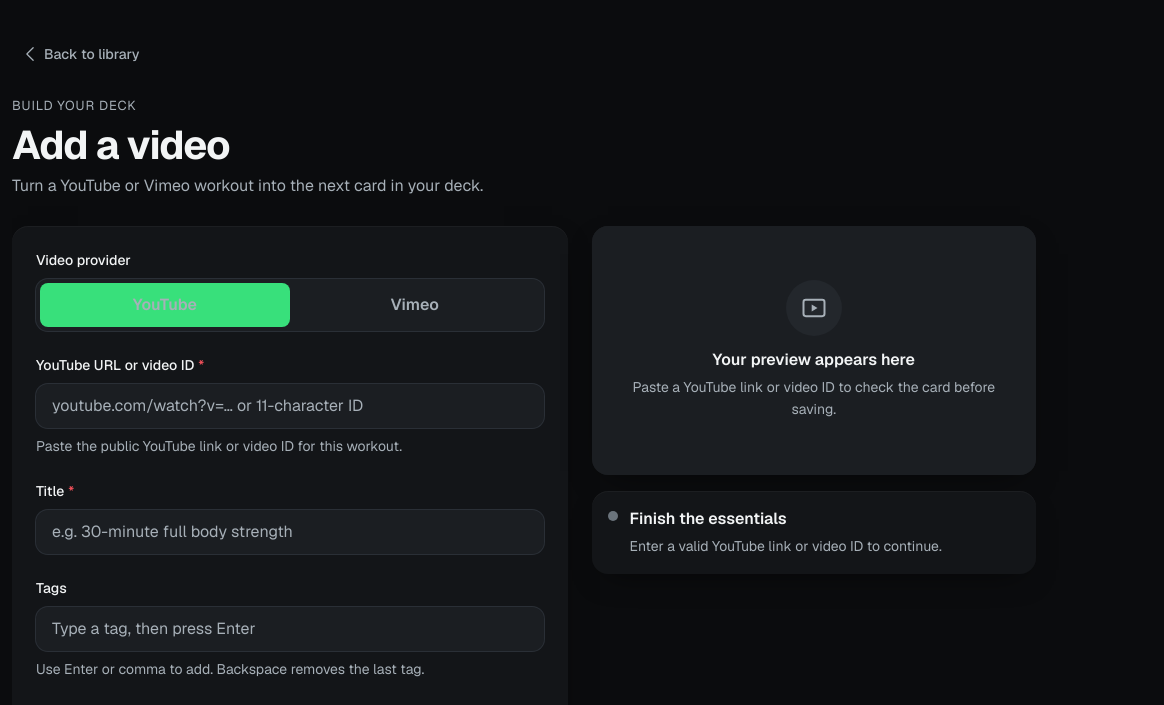
Test: VideoForm › clears an auto-filled title when replacement metadata falls back
The width and height of the screenshot is (1164, 705).
Type "https://youtube.com/watch?v=abc123def45" into the field labelled "YouTube URL or video ID*" at (290, 406), box [36, 384, 544, 428]
Wait 500 ms
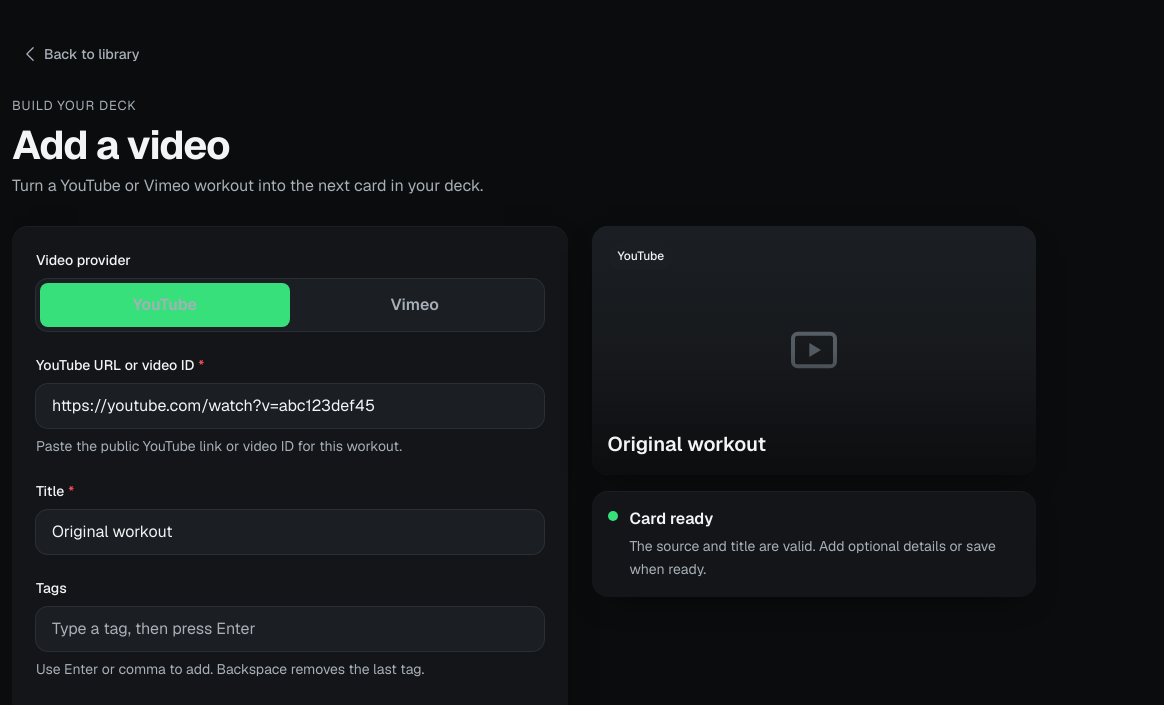
Expected: the field labelled "Title*" holds "Original workout", [36, 510, 544, 554]
Replace the text in the field labelled "YouTube URL or video ID*" with "https://youtube.com/watch?v=zyx987wvu65" at (290, 406), box [36, 384, 544, 428]
Wait 500 ms
(page scrolled)
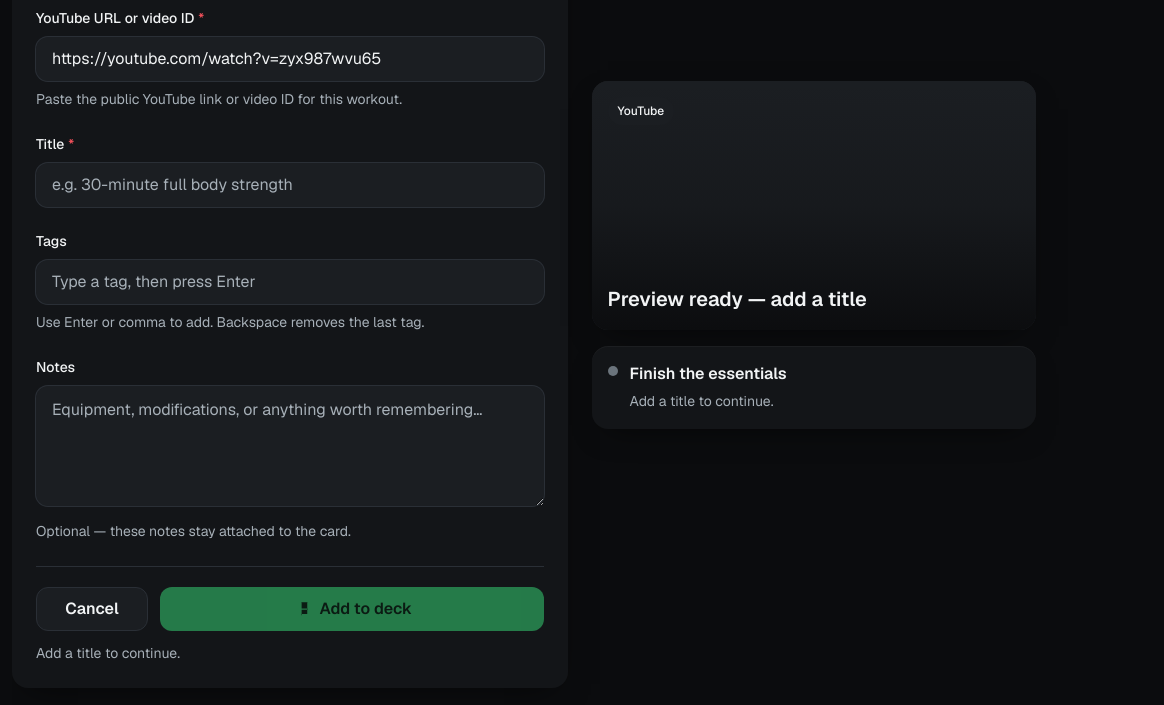
Expected: the field labelled "Title*" is empty, [36, 162, 544, 206]
Expected: the text "Preview ready — add a title" is shown, [608, 286, 867, 312]
Expected: the button "Add to deck" is disabled, [160, 586, 544, 630]
